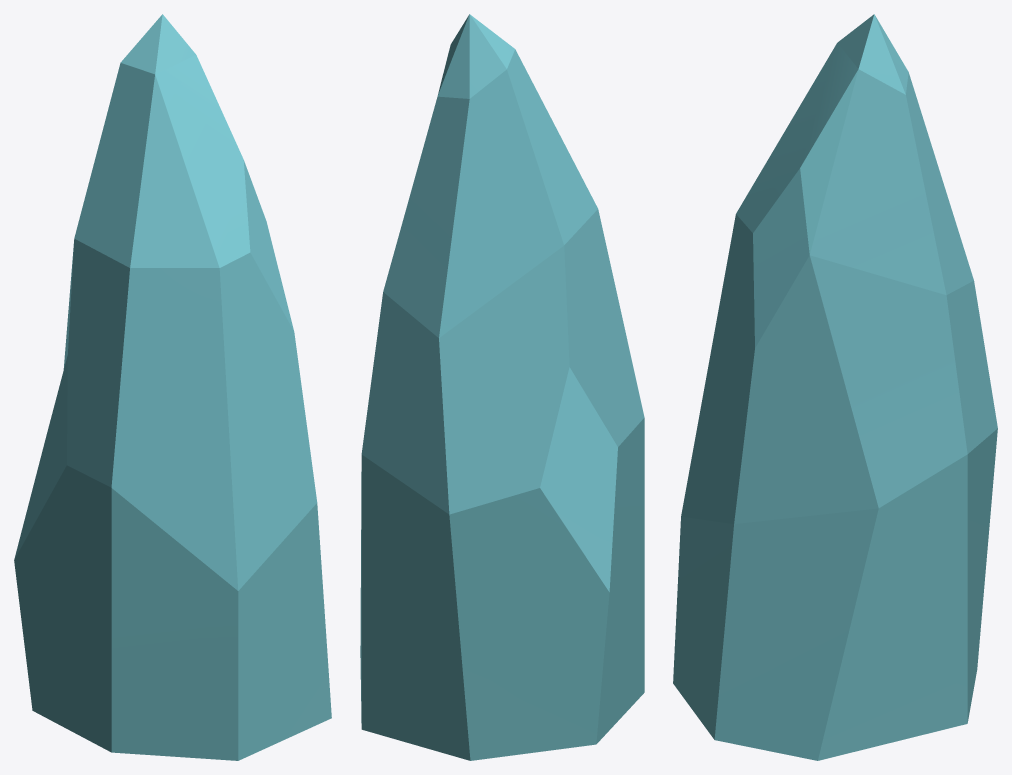
File: rock2.fbx
3 renders of one model, left to right at view 1: azimuth 30°, elevation 25°; view 2: azimuth 150°, elevation 25°; view 3: azimuth 270°, elevation 25°, orthographic. The views are drawn at different scales.
Parts seen in each view (by area): view 1: rock2; view 2: rock2; view 3: rock2.
Boxes of the visible parts, x1,y1,x2,y2 form: rock2: (14,14,331,760); rock2: (360,14,644,760); rock2: (673,14,997,760).
Bounding box in the file's own units: 76.89 × 179 × 77.46.
